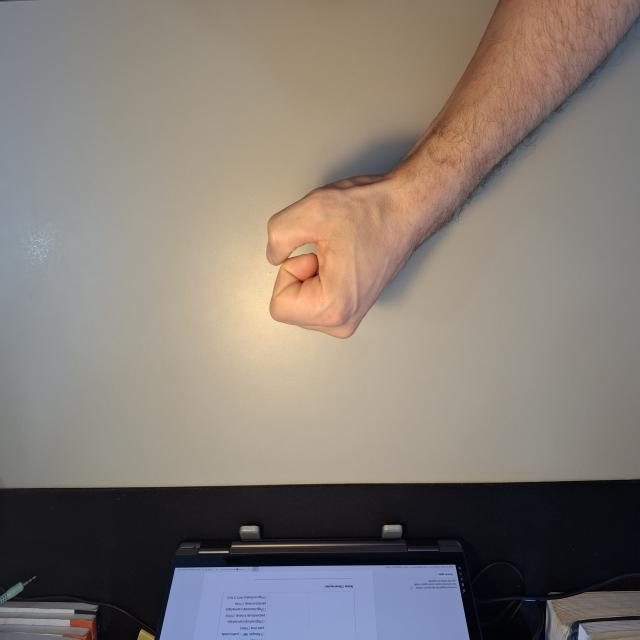glove_off: (264, 165, 426, 342)
